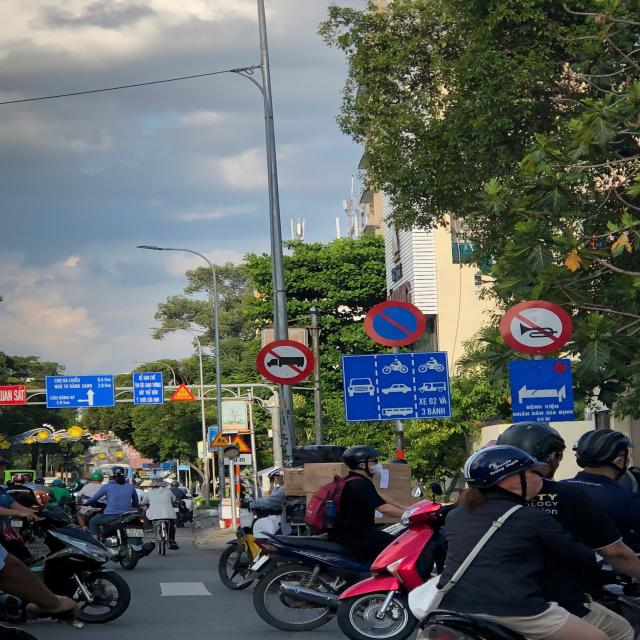Bien bao cam do xe: (350, 294, 438, 350)
Bien bao cam xe so-mi ro-mooc: (244, 328, 326, 393)
